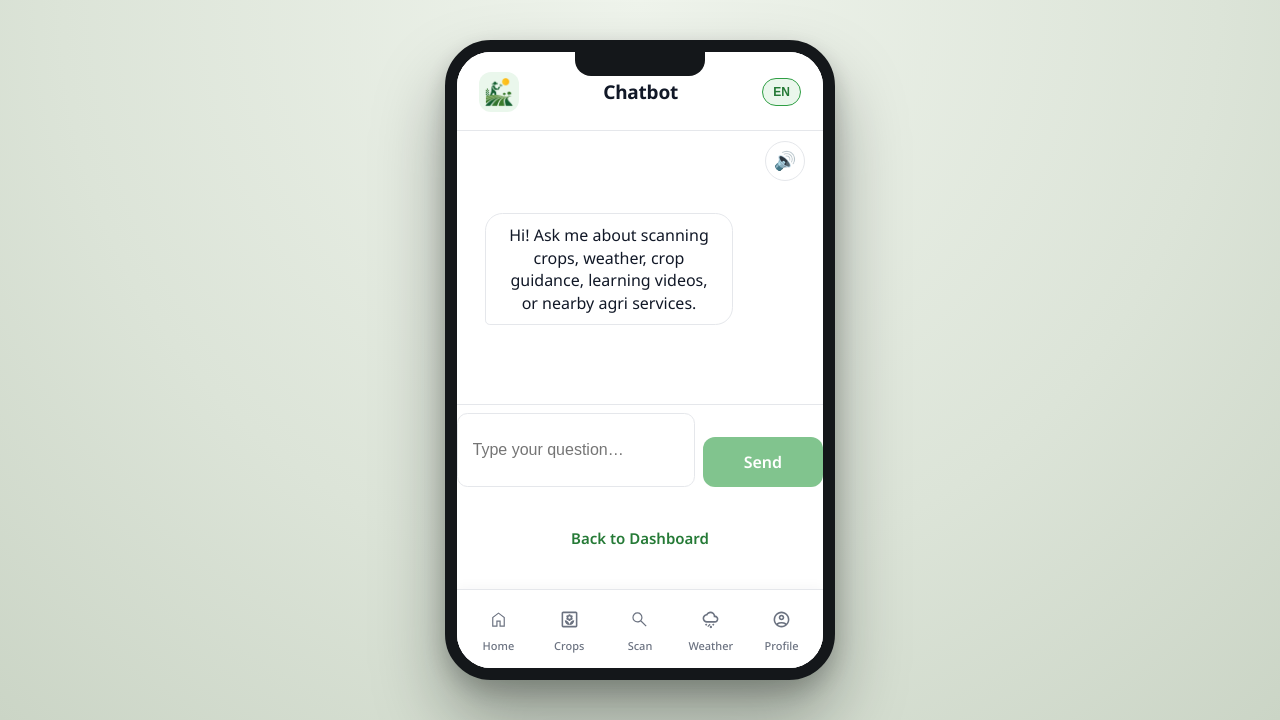
ChatbotPage voice output › speaks a new bot reply, in the active language, when voice output is on
In the field with placeholder "Type your question…": (576, 450) [457, 412, 695, 486], type "when should I water?"
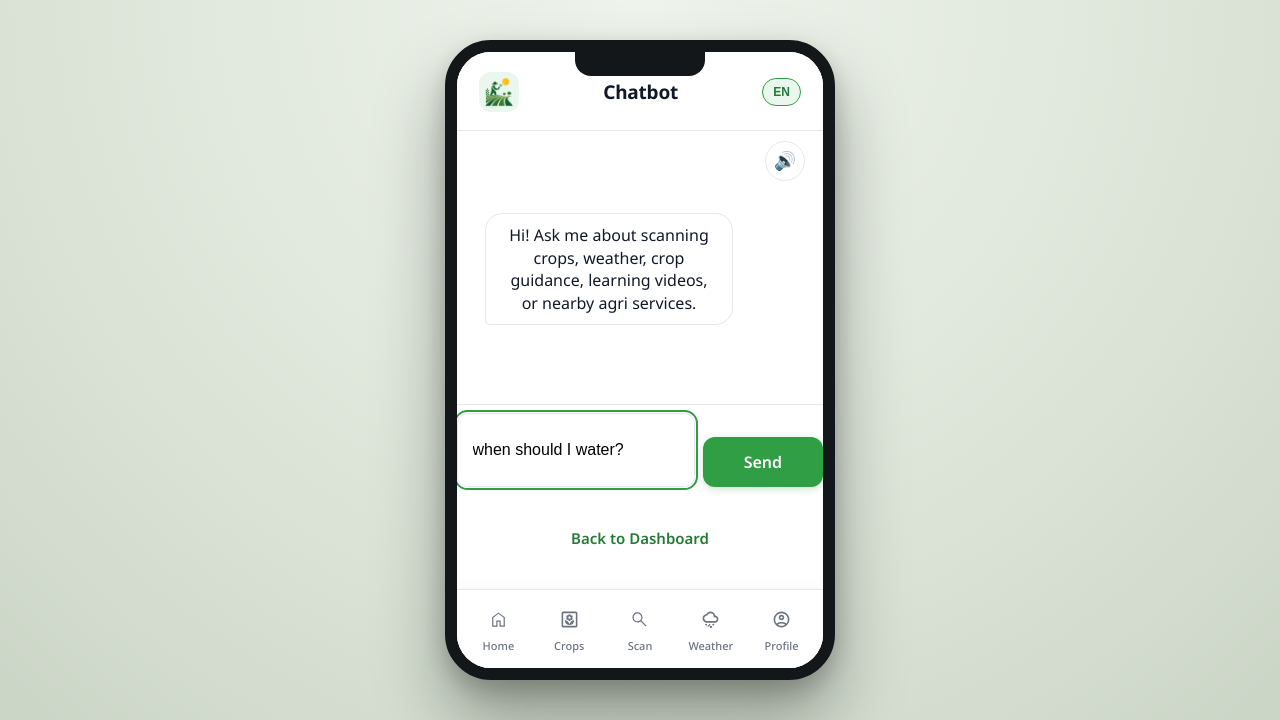
Click the button "Send": (763, 462) [703, 436, 823, 486]
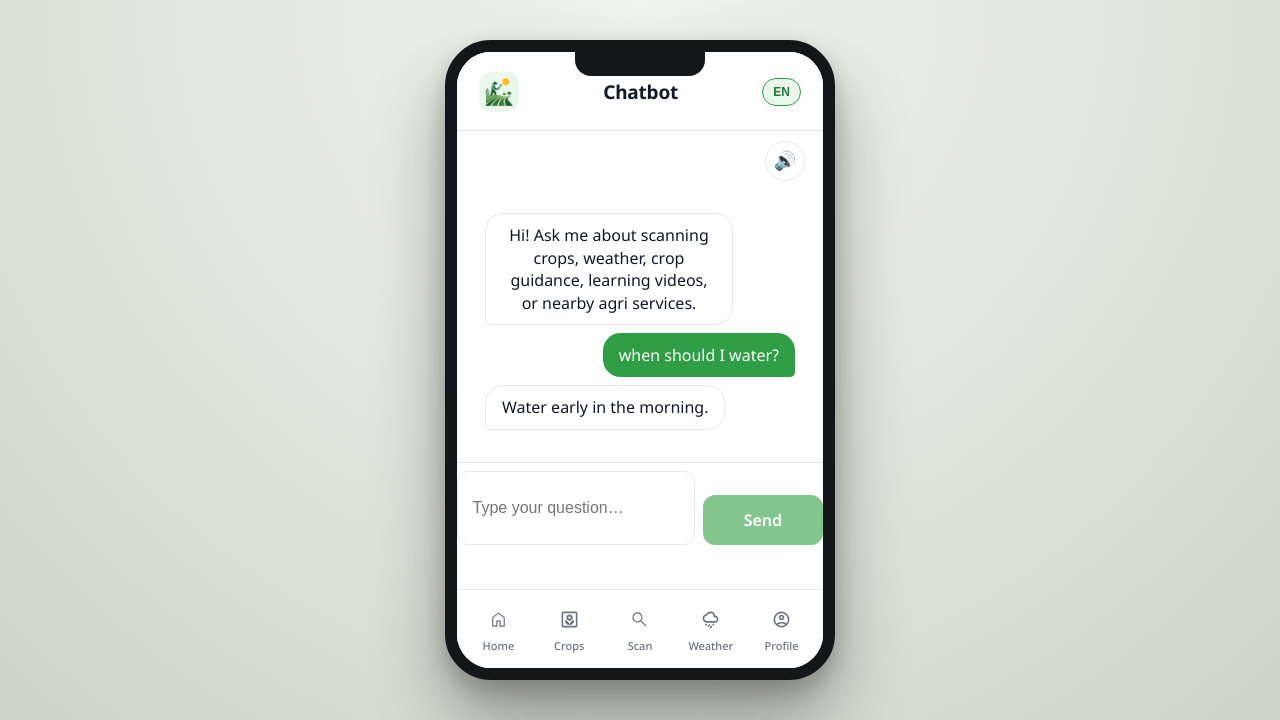
Now the text "Water early in the morning." is shown, box [485, 384, 726, 430]
